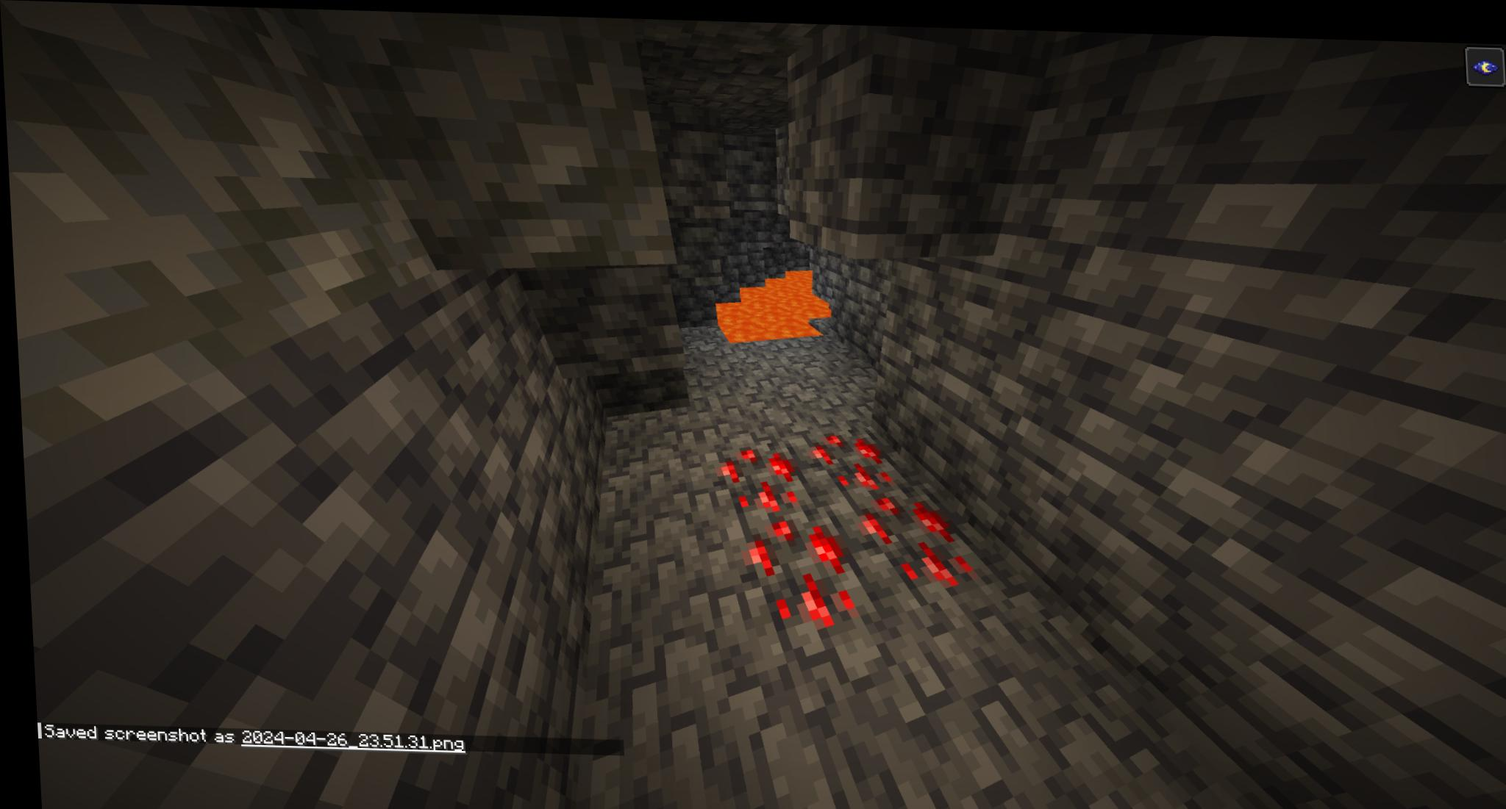redstone ore: (732, 508, 860, 617), (845, 483, 972, 589), (702, 433, 803, 516), (802, 422, 896, 495)
